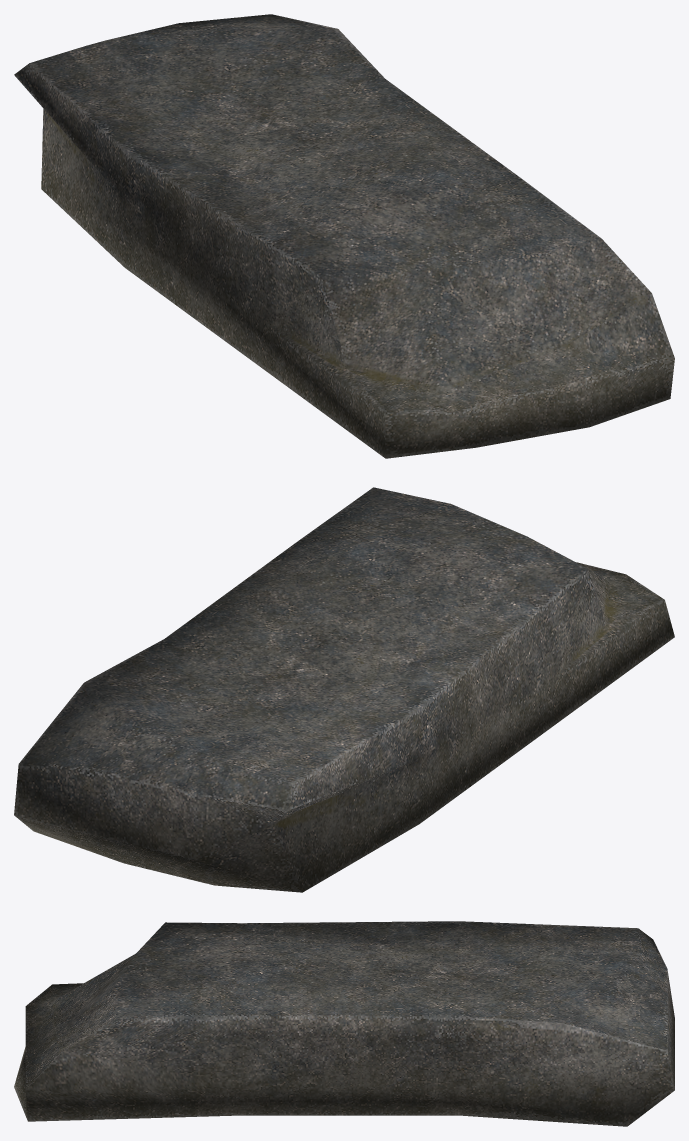
The model's file is SM_Stone_Steps.fbx.
3 views of the same model, one above another, from view 1: azimuth 30°, elevation 25°; view 2: azimuth 150°, elevation 25°; view 3: azimuth 270°, elevation 25° (orthographic). The views are drawn at different scales.
Visible parts, largest first — view 1: SM_Stone_Steps; view 2: SM_Stone_Steps; view 3: SM_Stone_Steps.
Boxes of the visible parts, x1,y1,x2,y2 form: SM_Stone_Steps: (14,14,674,458); SM_Stone_Steps: (14,487,674,892); SM_Stone_Steps: (14,921,674,1126).
Bounding box in the file's own units: 60 × 150 × 27.79.
Materials: 1 (1 with a texture image).
